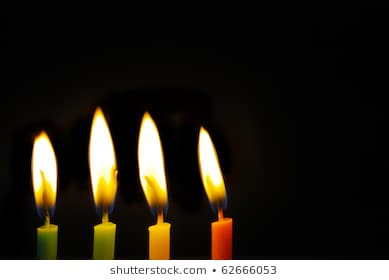Fire: (135, 108, 172, 210), (86, 105, 120, 215), (25, 125, 62, 221), (196, 121, 231, 212)
